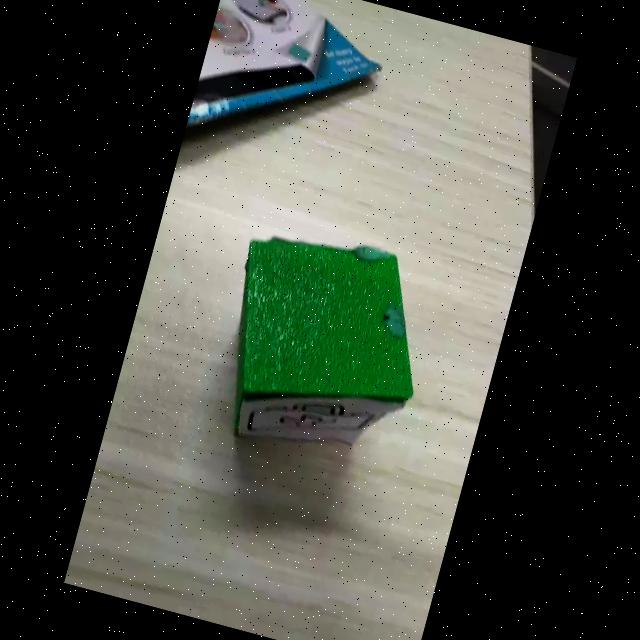Medkit: (247, 398, 373, 431)
